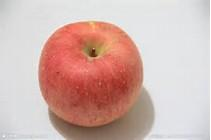apple: (52, 28, 161, 122)
